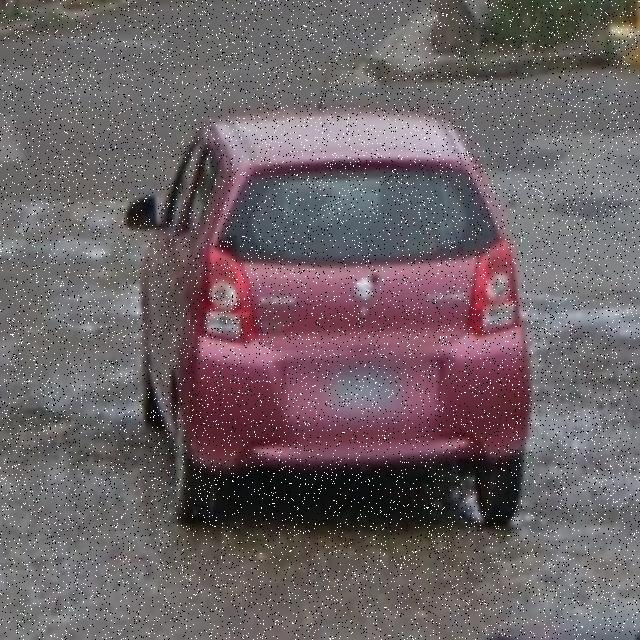cars: (138, 107, 528, 538)
